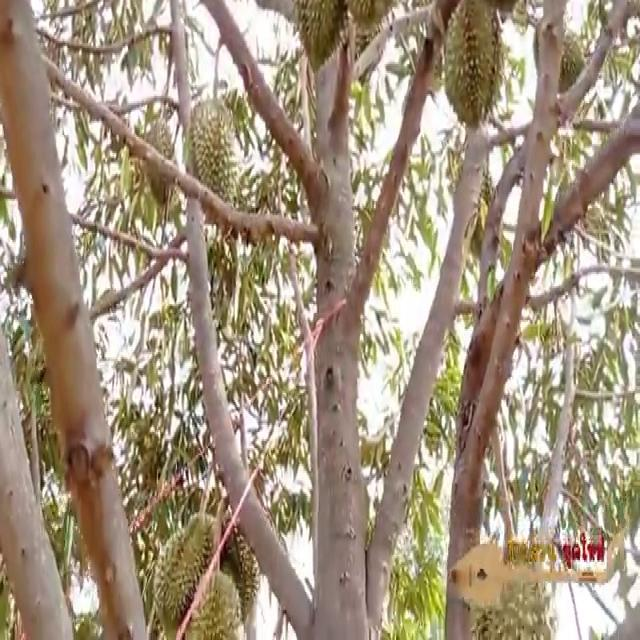durian: (436, 0, 511, 140), (150, 501, 223, 634), (457, 552, 567, 638), (185, 93, 247, 242), (214, 517, 264, 625), (532, 18, 590, 107), (180, 561, 247, 638), (289, 0, 351, 71), (140, 114, 181, 204)
